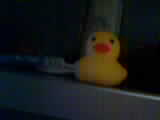duck: (68, 24, 120, 84)
